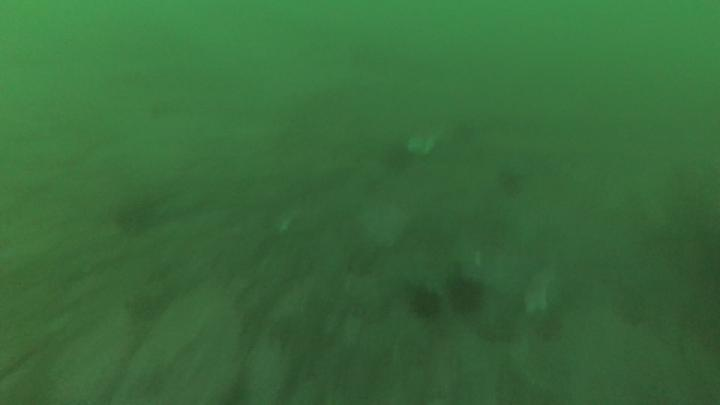starfish: (439, 270, 489, 319), (407, 282, 447, 324)
